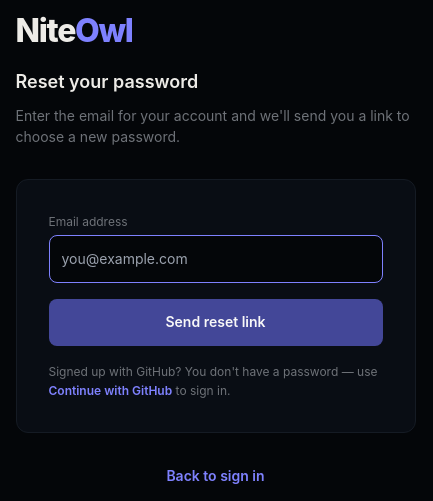
Test: ForgotPasswordPage › keeps the disabled submit button until an email is entered
This screenshot has width=433, height=501.
expect the button "Send reset link" is disabled: met, box [48,299,382,346]
Type "a@b.co" into the field labelled "Email address" at (216, 259), box [48,235,382,283]
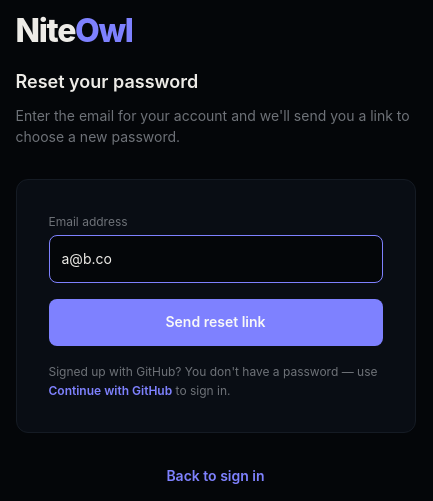
expect the button "Send reset link" is enabled: met, box [48,299,382,346]
